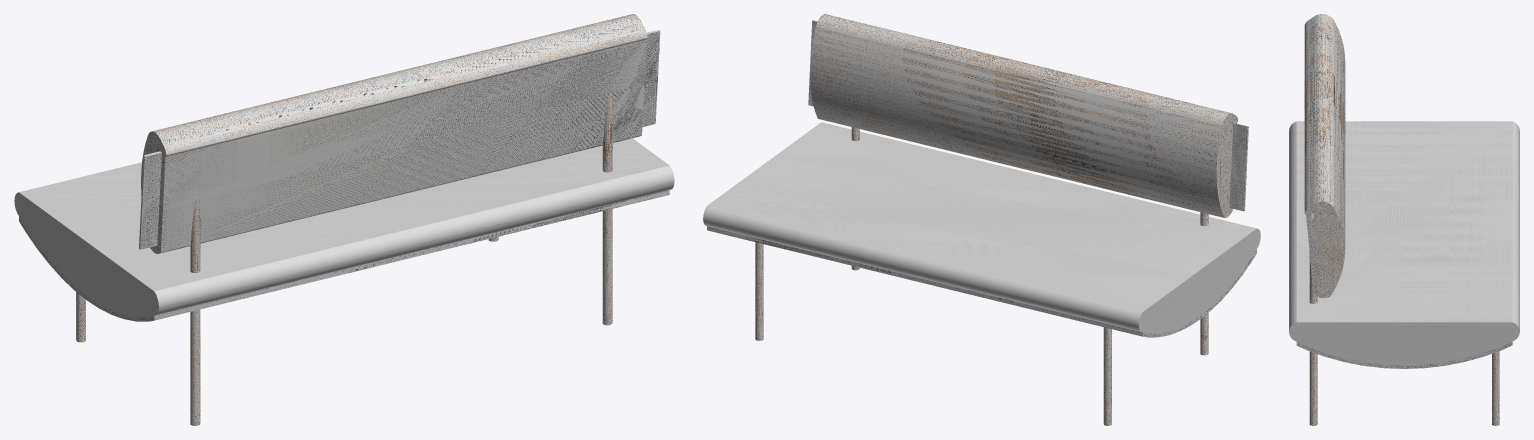
3 views of the same model, side by side, from view 1: azimuth 30°, elevation 25°; view 2: azimuth 150°, elevation 25°; view 3: azimuth 270°, elevation 25° (orthographic). The views are drawn at different scales.
Visible parts, largest first — view 1: mesh2_mesh2-geometry, mesh6_mesh6-geometry, mesh4_mesh4-geometry, mesh5_mesh5-geometry; view 2: mesh6_mesh6-geometry, mesh2_mesh2-geometry, mesh1_mesh1-geometry, mesh3_mesh3-geometry; view 3: mesh6_mesh6-geometry, mesh2_mesh2-geometry, mesh5_mesh5-geometry, mesh3_mesh3-geometry.
Part boxes in pixels (left/top/right/bottom): mesh2_mesh2-geometry: left=139, top=14, right=660, bottom=272; mesh6_mesh6-geometry: left=14, top=138, right=674, bottom=321; mesh4_mesh4-geometry: left=190, top=309, right=200, bottom=425; mesh5_mesh5-geometry: left=602, top=209, right=612, bottom=325; mesh6_mesh6-geometry: left=703, top=122, right=1260, bottom=337; mesh2_mesh2-geometry: left=808, top=14, right=1248, bottom=226; mesh1_mesh1-geometry: left=1103, top=327, right=1111, bottom=425; mesh3_mesh3-geometry: left=755, top=242, right=763, bottom=340; mesh6_mesh6-geometry: left=1289, top=121, right=1519, bottom=368; mesh2_mesh2-geometry: left=1304, top=14, right=1345, bottom=303; mesh5_mesh5-geometry: left=1309, top=351, right=1317, bottom=425; mesh3_mesh3-geometry: left=1492, top=351, right=1499, bottom=425.
Size of the model in its own units: 0.8069 by 0.4422 by 0.3917.
